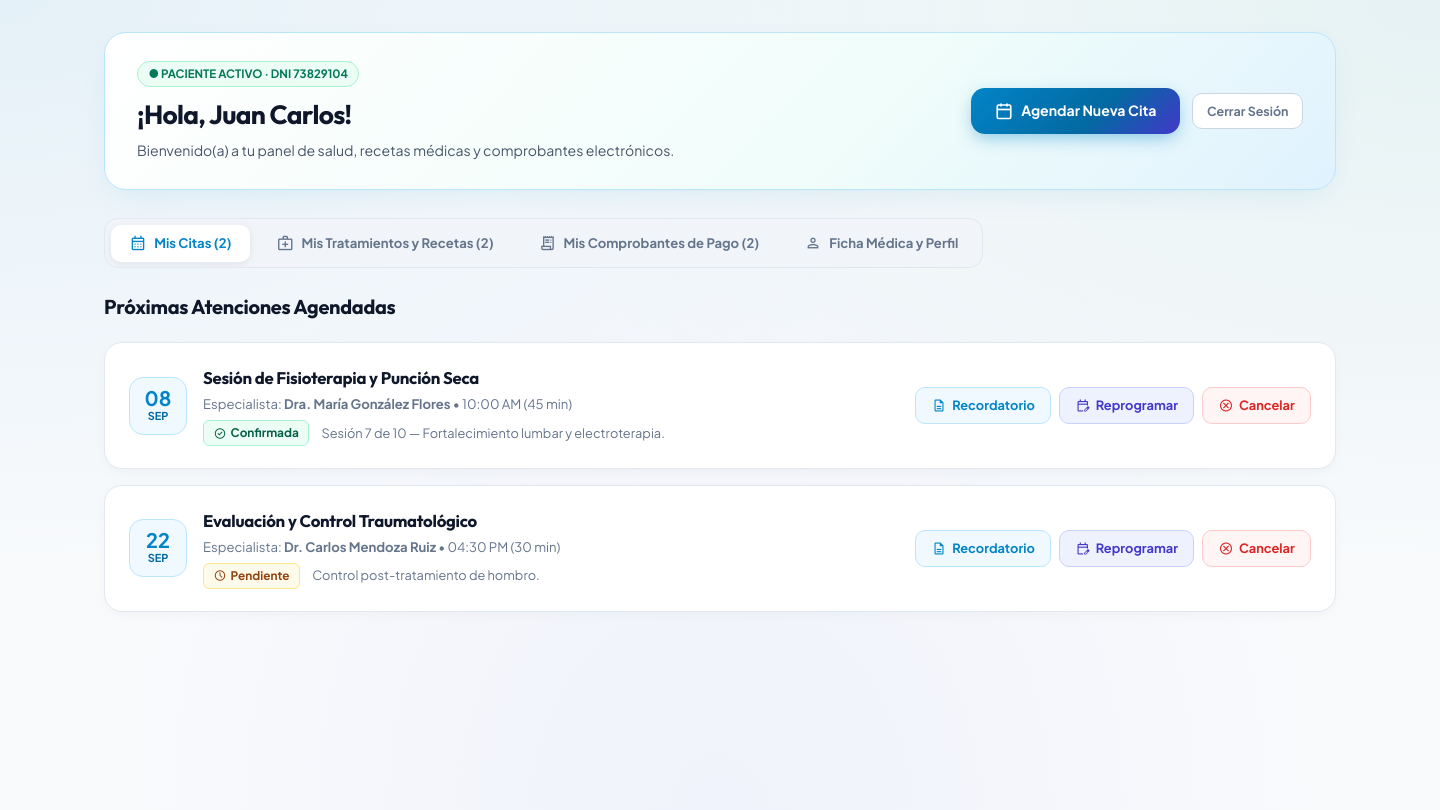
Scenario: PatientPortal Component › switches between tabs (Tratamientos, Perfil)
This screenshot has width=1440, height=810.
// Switch to Tratamientos
Click the button "Mis Tratamientos y Recetas (2)" at (385,243), box left=258, top=224, right=512, bottom=262
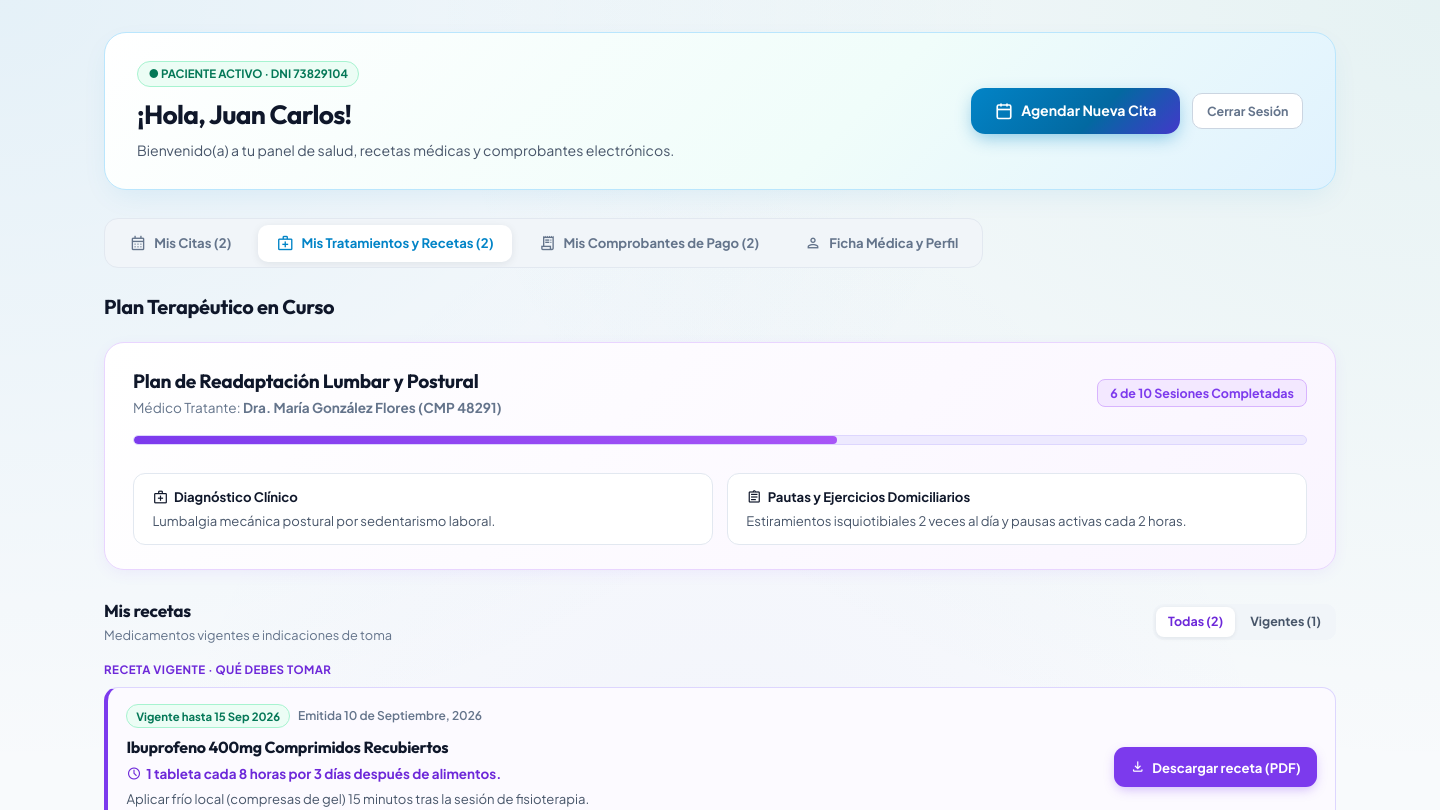
Expected: the heading "Plan de Readaptación Lumbar y Postural" is shown, left=133, top=367, right=502, bottom=396
Expected: the text "6 de 10 Sesiones Completadas" is shown, left=1097, top=379, right=1307, bottom=407
// Switch to Perfil
Click the button "Ficha Médica y Perfil" at (881,243), box left=786, top=224, right=977, bottom=262
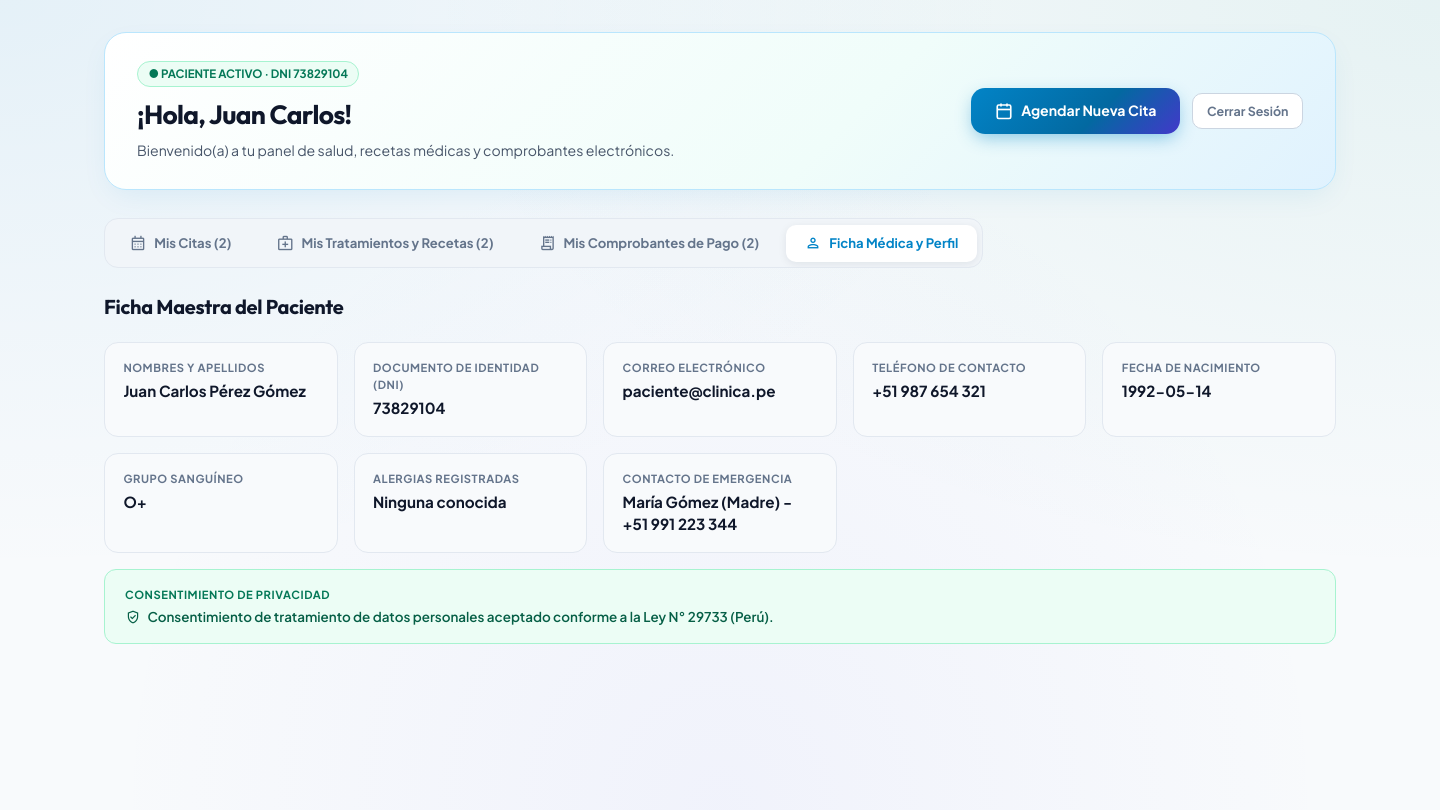
Expected: the heading "Ficha Maestra del Paciente" is shown, left=104, top=294, right=344, bottom=319
Expected: the text "73829104" is shown, left=373, top=398, right=445, bottom=417
